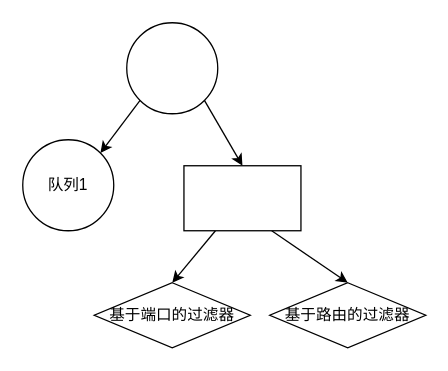
Some shapes in this 448 by 371 pixel diagram are drawn without their labels. Here are the shapes that lost their labels. From the top down, the centre of each, then its label:
(x=171, y=67): 根队列
(x=242, y=197): 类1
